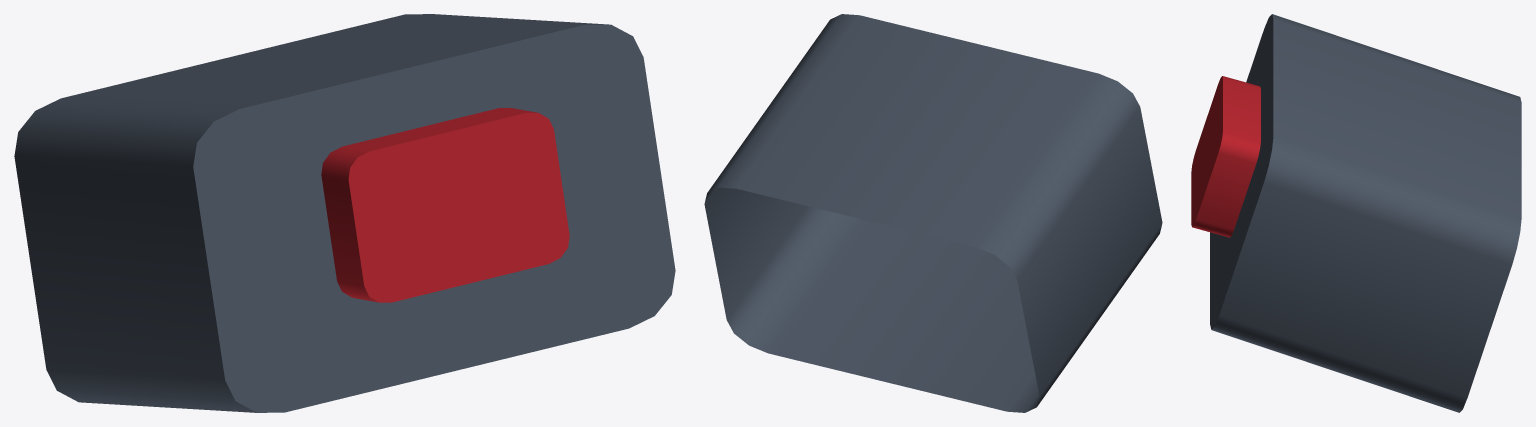
The model's file is MM_Button.fbx.
3 views of the same model, side by side, from view 1: azimuth 30°, elevation 25°; view 2: azimuth 150°, elevation 25°; view 3: azimuth 270°, elevation 25° (orthographic). The views are drawn at different scales.
Visible parts, largest first — view 1: Cube.036; view 2: Cube.036; view 3: Cube.036.
Part boxes in pixels (x1=…): Cube.036: x1=14, y1=14, x2=675, y2=412; Cube.036: x1=704, y1=14, x2=1162, y2=412; Cube.036: x1=1191, y1=14, x2=1521, y2=412.
Bounding box in the file's own units: 30.5 × 25.17 × 27.72.
